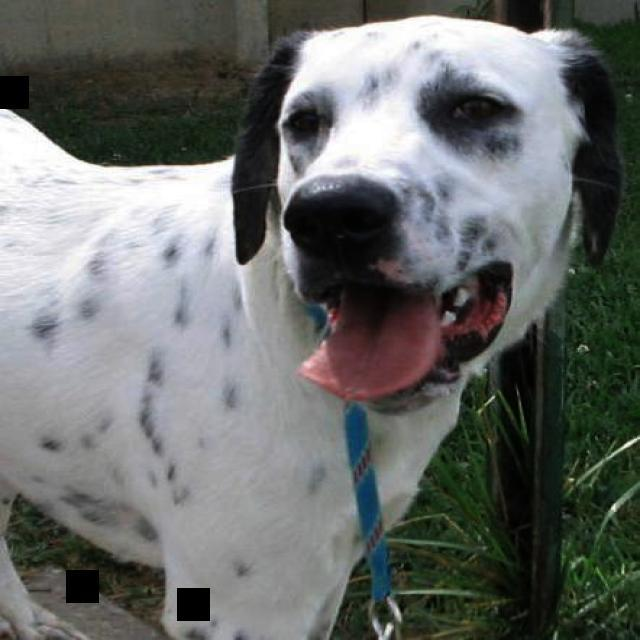adult_dog: (0, 11, 620, 635)
